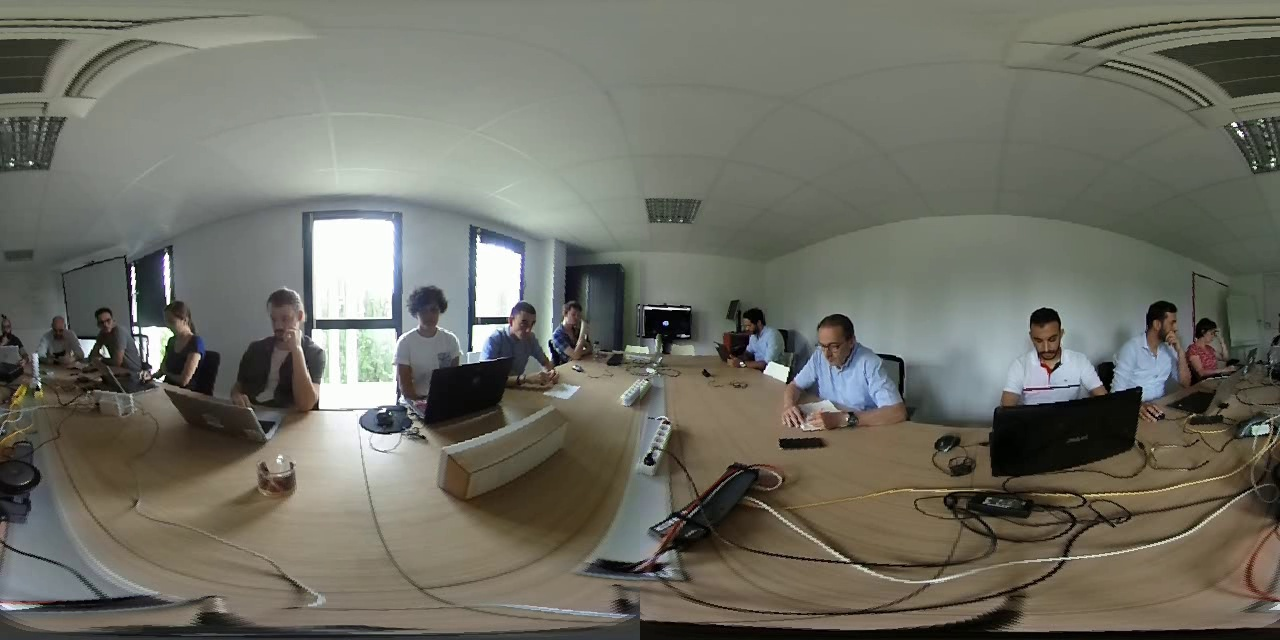person: (791, 300, 916, 428), (230, 280, 330, 417), (996, 293, 1102, 406), (388, 278, 476, 379), (1107, 294, 1188, 393), (155, 293, 221, 389), (482, 293, 550, 385), (1186, 295, 1248, 387), (84, 298, 149, 378), (549, 278, 606, 364), (725, 302, 792, 371), (31, 306, 83, 366), (1, 307, 22, 351)
